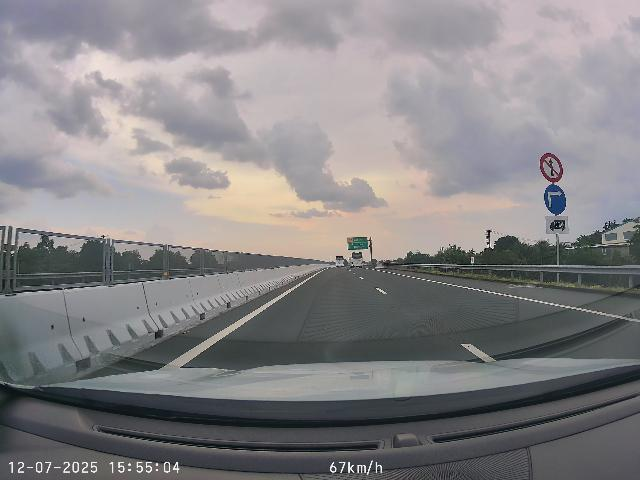136-cam-di-thang: (539, 153, 563, 183)
301d-cac-xe-chi-duoc-re-phai-2: (544, 184, 567, 215)
